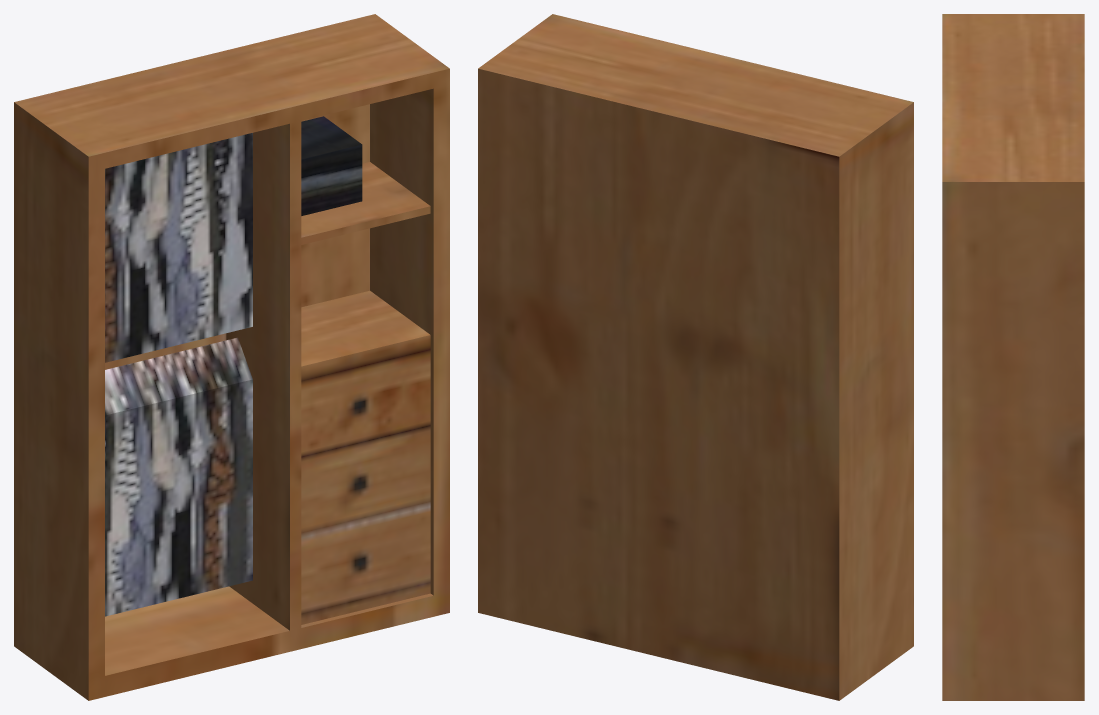
The model's file is guarda_roupa_b.glb.
The picture shows the model from 3 angles, left to right: view 1: azimuth 30°, elevation 25°; view 2: azimuth 150°, elevation 25°; view 3: azimuth 270°, elevation 25°; orthographic projection. The views are drawn at different scales.
Visible parts, largest first — view 1: guarda_roupa_b; view 2: guarda_roupa_b; view 3: guarda_roupa_b.
Part boxes in pixels (x1,y1,x2,y2): guarda_roupa_b: [14, 14, 449, 700]; guarda_roupa_b: [478, 14, 913, 700]; guarda_roupa_b: [942, 14, 1084, 700].
Size of the model in its own units: 1.37 by 1.98 by 0.4915.
Materials: 1 (1 with a texture image).
